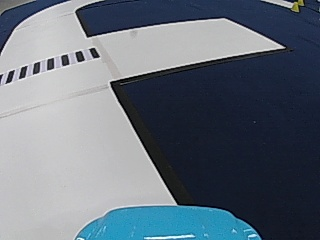CrossWalk: (4, 47, 97, 81)
